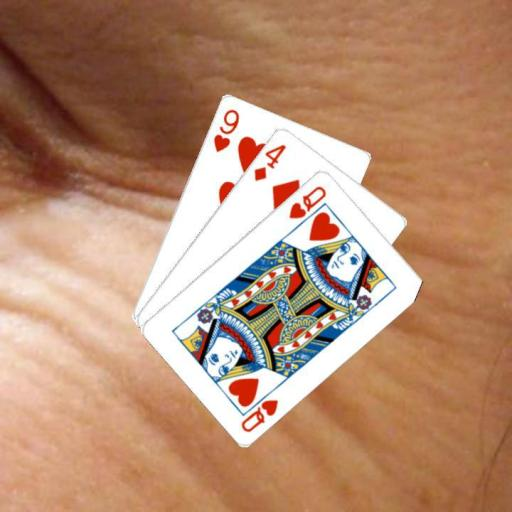4D: (251, 140, 288, 182)
9H: (210, 105, 241, 154)
QH: (238, 384, 280, 434), (285, 182, 328, 220)
